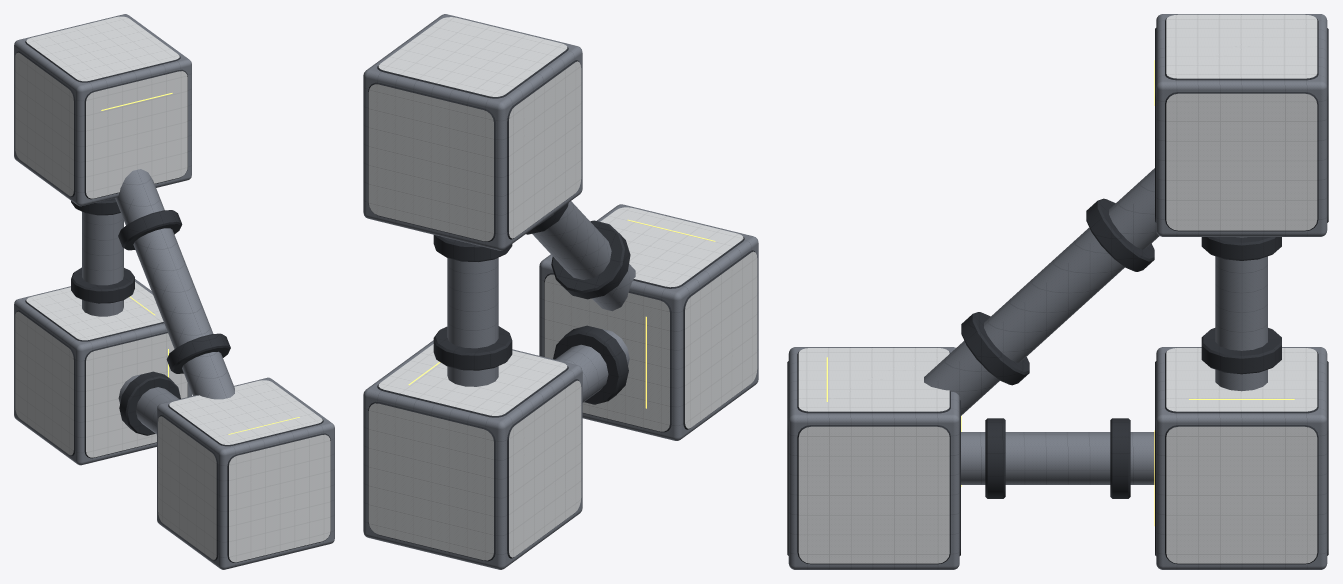
Rendered from R4C_STRUT_RAMP.glb.
The picture shows the model from 3 angles, left to right: view 1: azimuth 30°, elevation 25°; view 2: azimuth 150°, elevation 25°; view 3: azimuth 270°, elevation 25°; orthographic projection. The views are drawn at different scales.
Visible parts, largest first — view 1: R4C_STRUT_RAMP; view 2: R4C_STRUT_RAMP; view 3: R4C_STRUT_RAMP.
Boxes of the visible parts, x1,y1,x2,y2 form: R4C_STRUT_RAMP: (14,14,334,569); R4C_STRUT_RAMP: (363,14,758,569); R4C_STRUT_RAMP: (787,14,1328,569).
Size of the model in its own units: 0.52 by 1.62 by 1.62.
4 materials, 3 textured.
